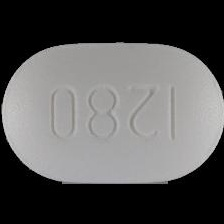13668-280: (0, 0, 224, 224)
